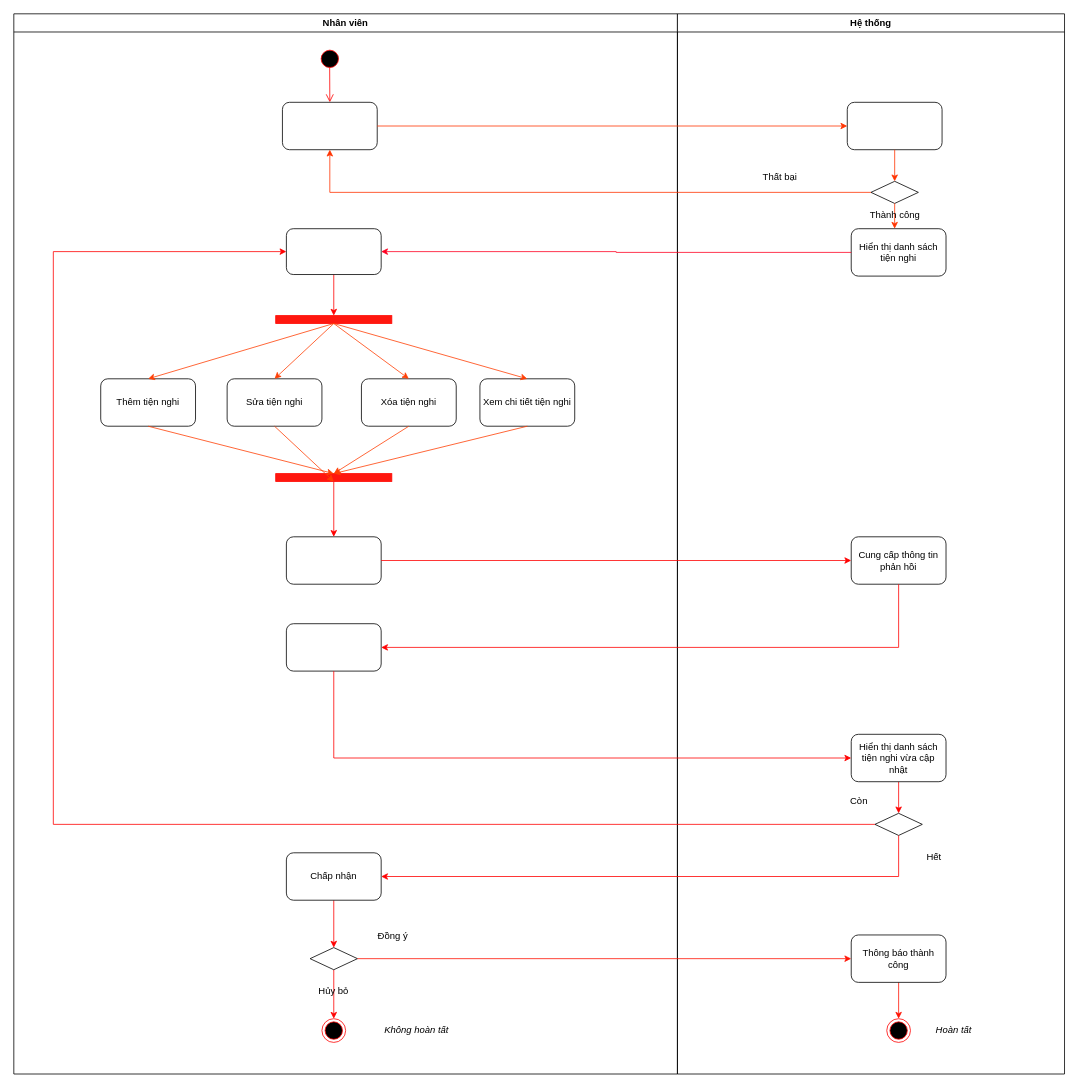
The diagram is 1078 pixels wide and 1088 high, and some of its shapes have lost their labels. Here are the shapes that lost their labels. From the top down, the centre of each, then its label:
At point 329,126: "Đăng nhập".
At point 894,126: "Kiểm tra mật khẩu".
At point 333,251: "Lựa chọn chức năng".
At point 333,560: "Nhập thông tin tiện nghi".
At point 333,647: "Lưu thông tin".
